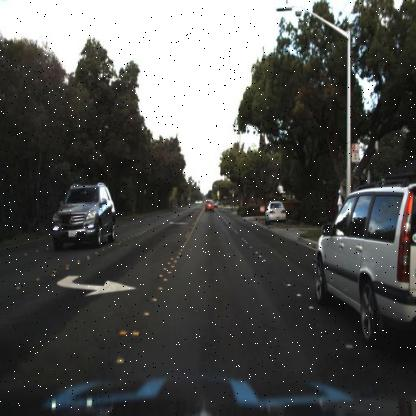car: (309, 163, 416, 355), (51, 180, 116, 252), (263, 195, 290, 227), (202, 193, 216, 214)
